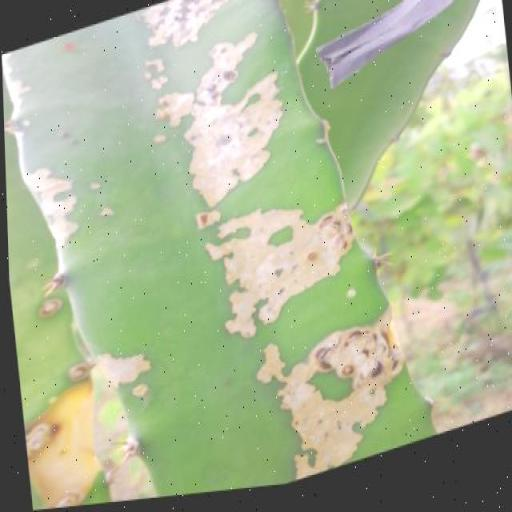stemcanker: (300, 136, 323, 182)
